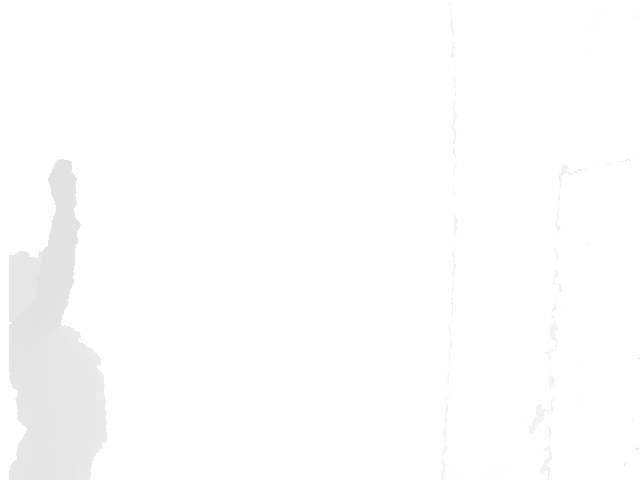hand: (47, 157, 79, 210)
head: (8, 250, 58, 324)
person: (8, 157, 109, 480)
